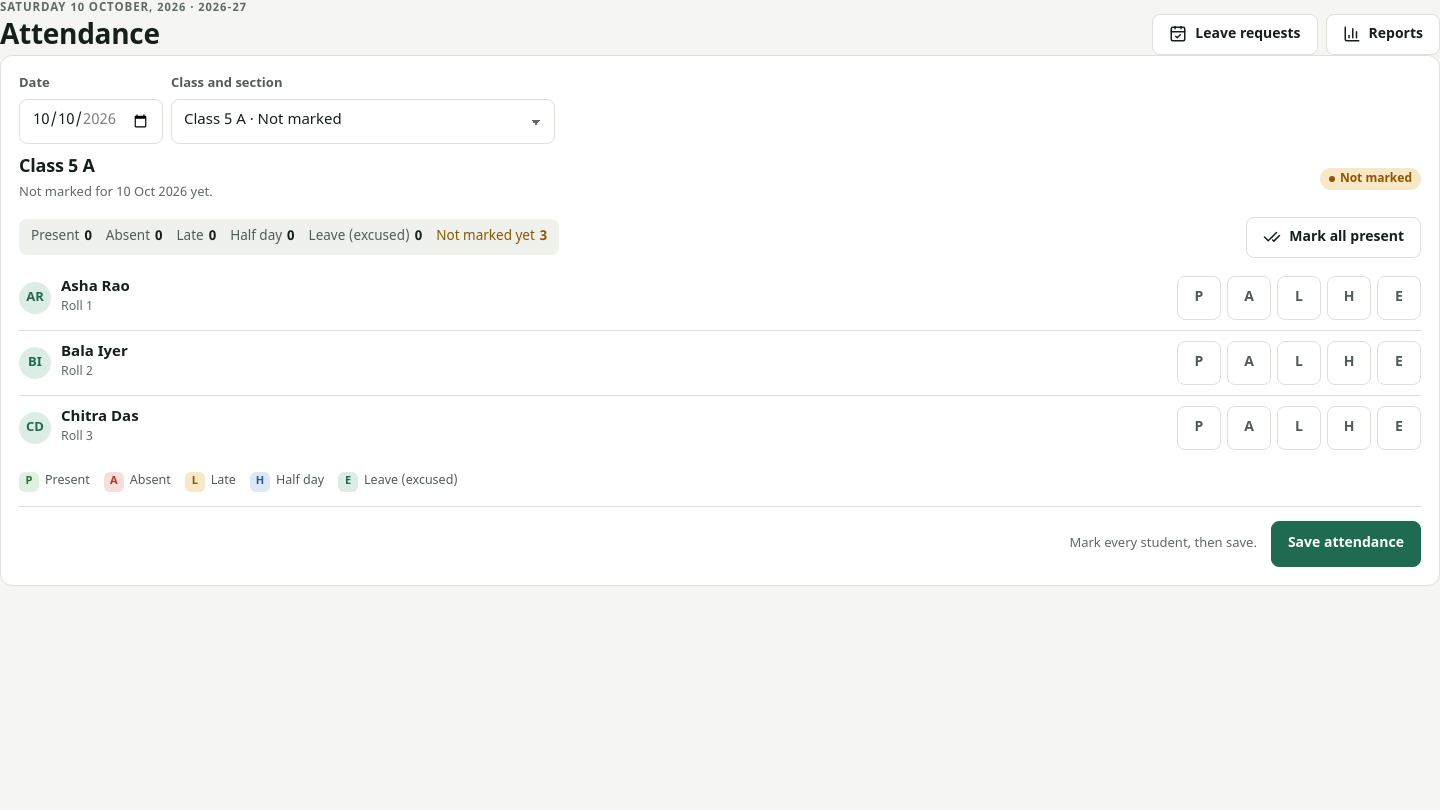
AttendanceView › marks everyone present, takes one toggle and saves after confirming
Expected: the heading "Class 5 A" is shown, x1=19 y1=156 x2=95 y2=179
Expected: the text "3" is shown, x1=540 y1=227 x2=547 y2=247
Click the button "Mark all present" at (1334, 237), box x1=1246 y1=217 x2=1421 y2=258
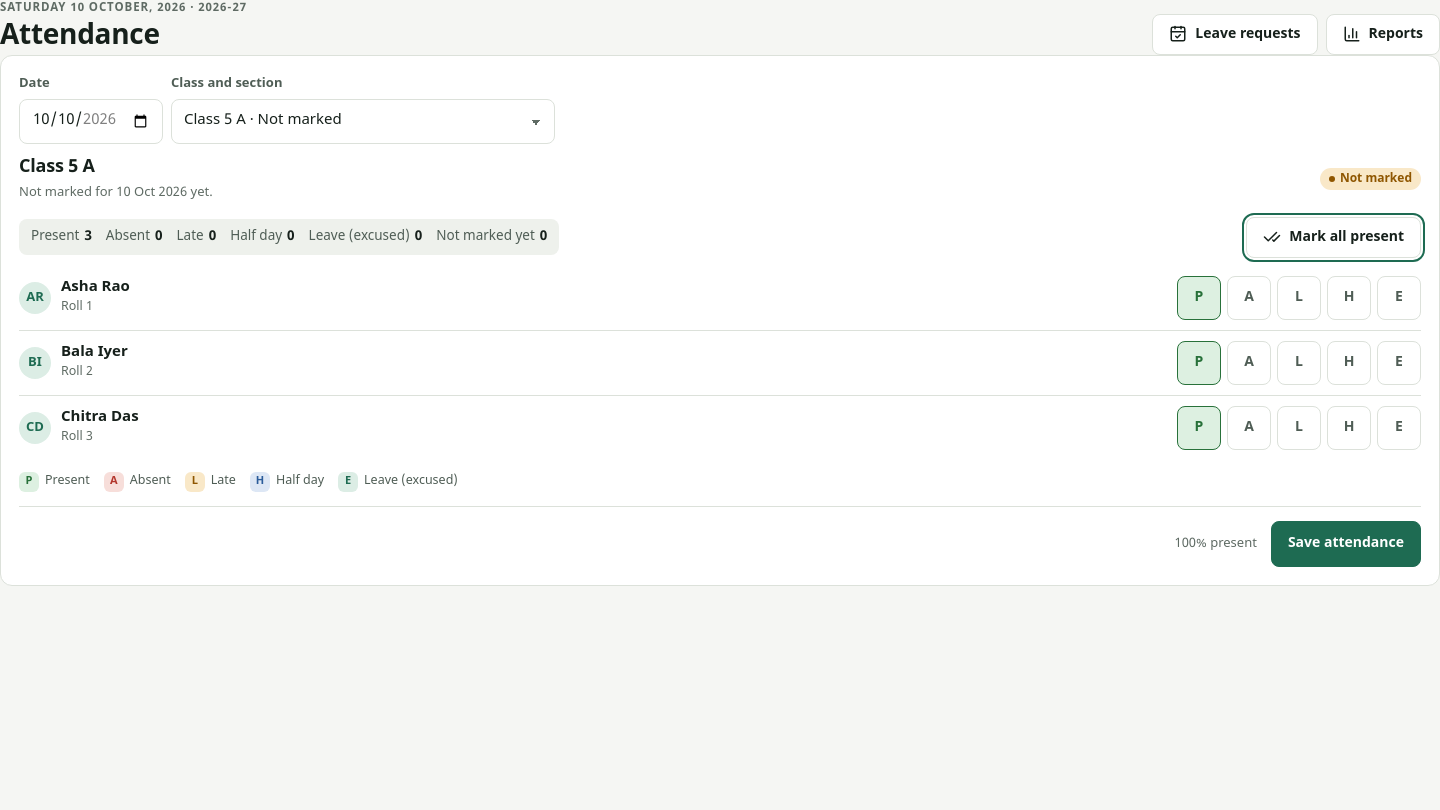
Expected: the text "3" is shown, x1=84 y1=227 x2=92 y2=247
Expected: the text "0" next to "Not marked yet" is shown, x1=540 y1=228 x2=547 y2=246
Click the button named "Absent" at (1249, 363), box x1=1227 y1=341 x2=1271 y2=385
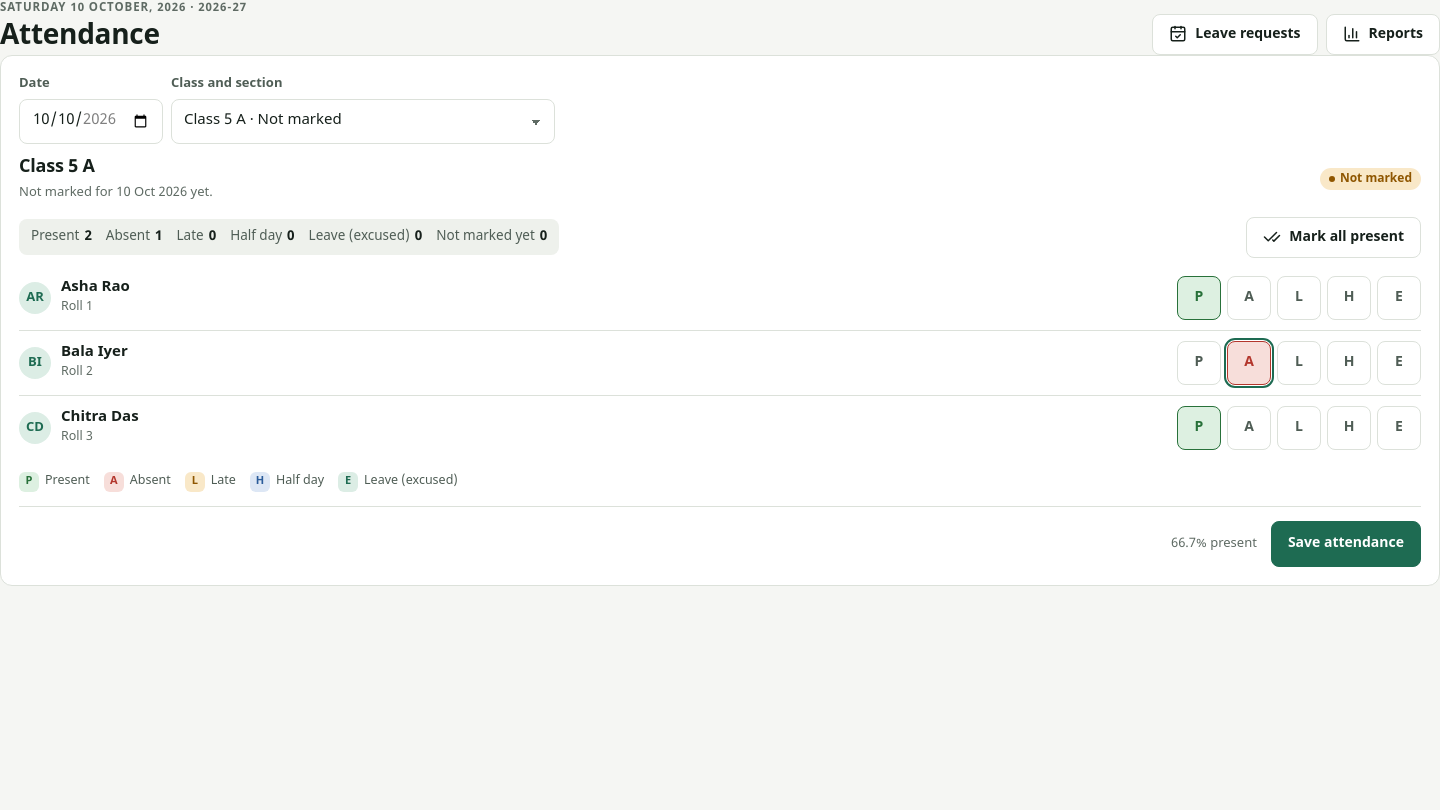
Expected: the text "2" is shown, x1=84 y1=227 x2=92 y2=247
Expected: the text "1" is shown, x1=155 y1=227 x2=163 y2=247
Click the button with test id "attendance-save" at (1346, 544), box x1=1271 y1=521 x2=1421 y2=567
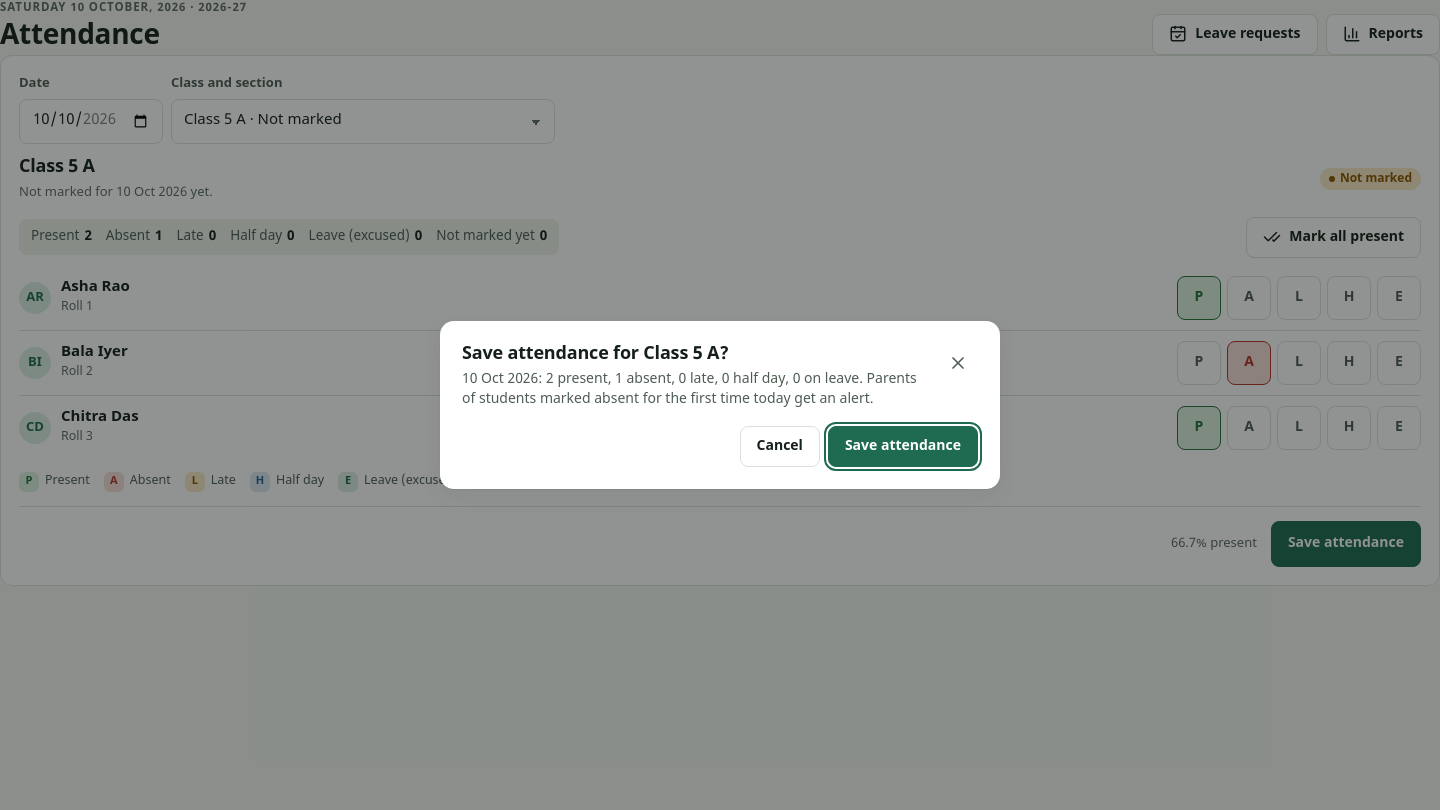
Expected: the dialog "Save attendance for Class 5 A?" shows "2 present, 1 absent", x1=462 y1=370 x2=917 y2=409
Click the button "Save attendance" at (903, 447), box x1=828 y1=426 x2=978 y2=467
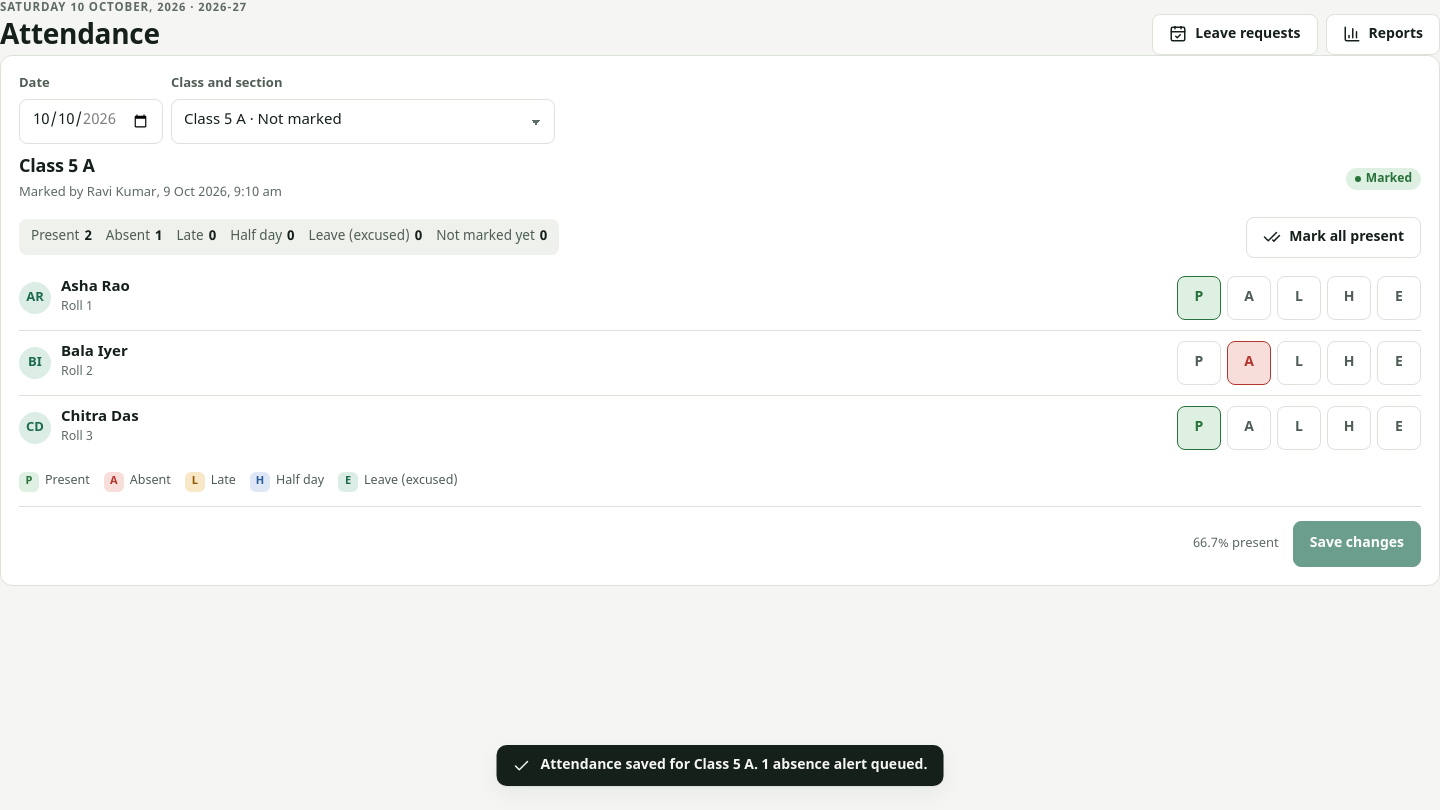
Expected: the text "Attendance saved for Class 5 A. 1 absence alert queued." is shown, x1=496 y1=745 x2=943 y2=786
Expected: the text with test id "register-meta" shows "Marked by Ravi Kumar", x1=19 y1=184 x2=282 y2=201
Expected: the button "Save changes" is disabled, x1=1293 y1=521 x2=1421 y2=567
